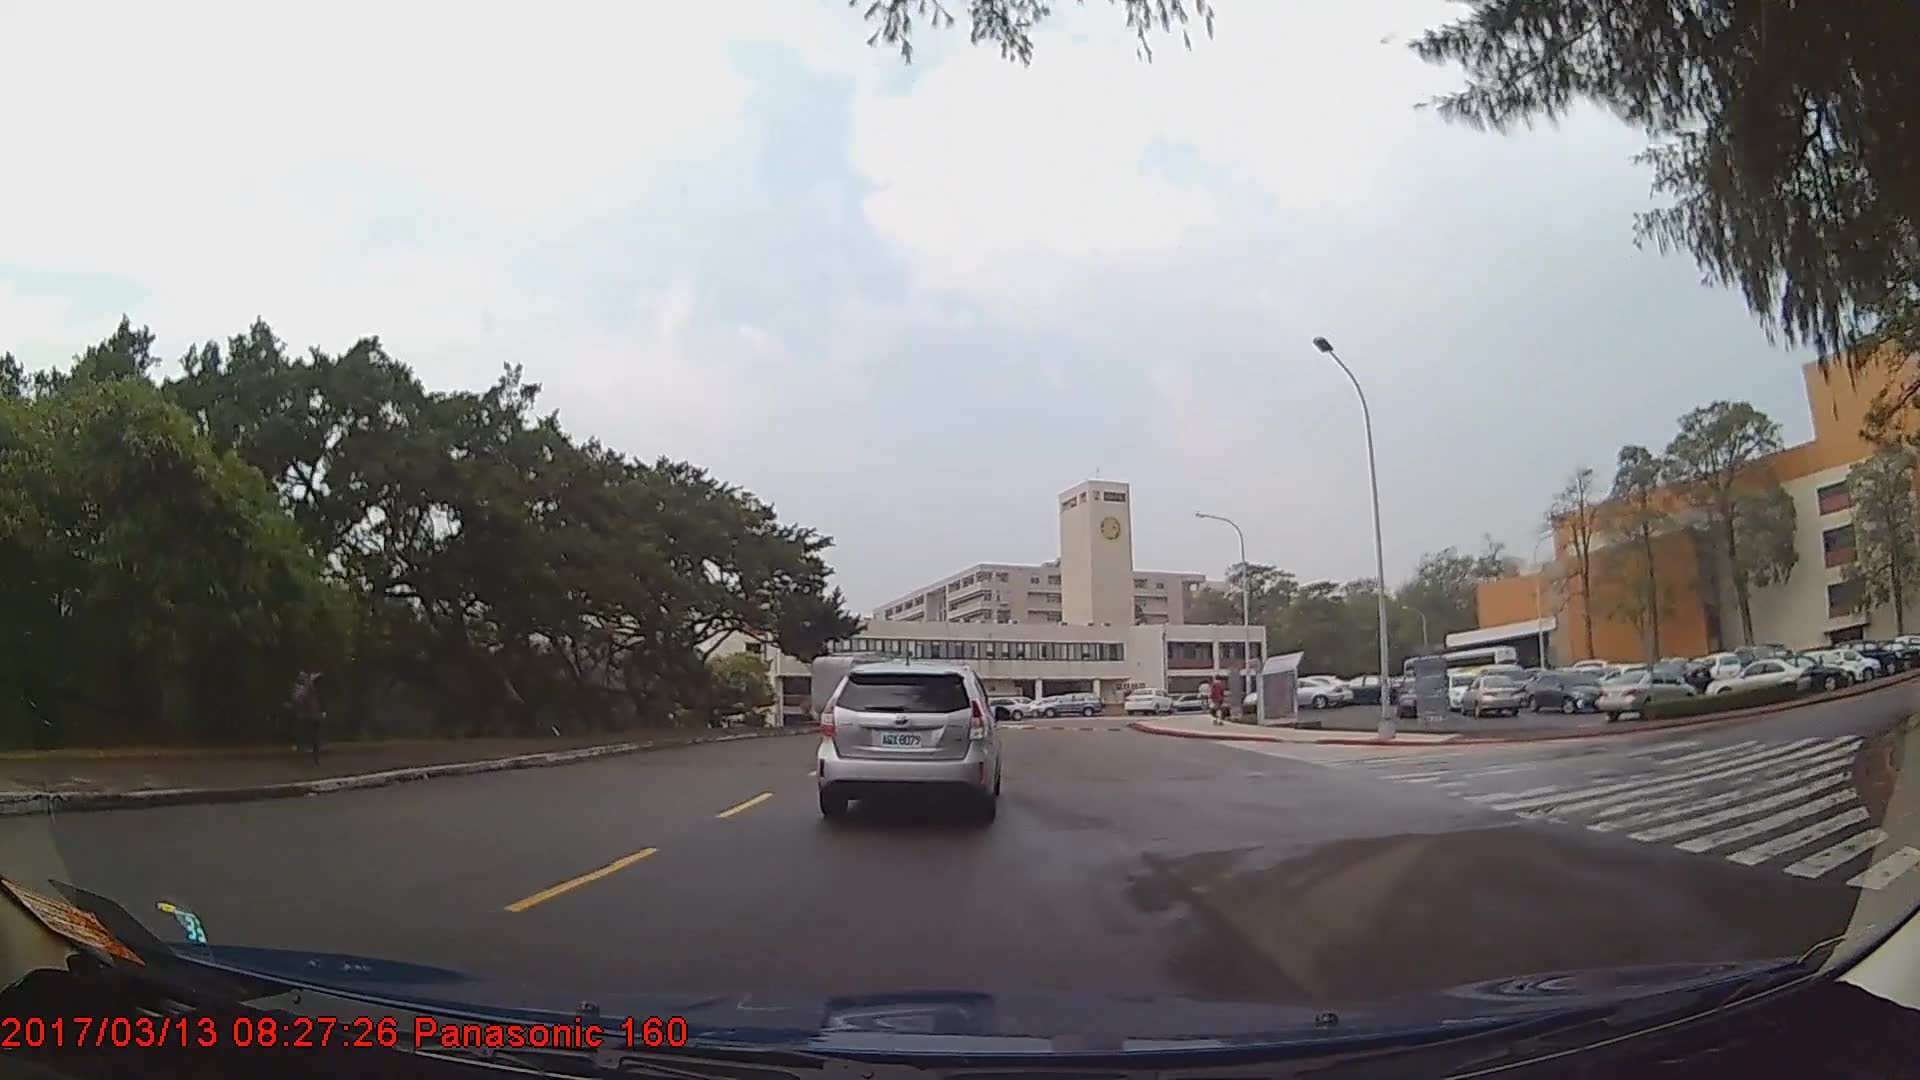pedestrian: (276, 650, 327, 764), (1208, 675, 1229, 728)
vehicle: (817, 659, 997, 821), (1599, 667, 1693, 722), (1704, 657, 1808, 705), (1752, 652, 1848, 696), (1243, 676, 1340, 713), (1529, 668, 1608, 714), (1460, 673, 1523, 719), (1334, 673, 1402, 705), (1038, 691, 1105, 718), (1122, 686, 1172, 717), (1393, 678, 1434, 715), (974, 696, 1032, 721)
